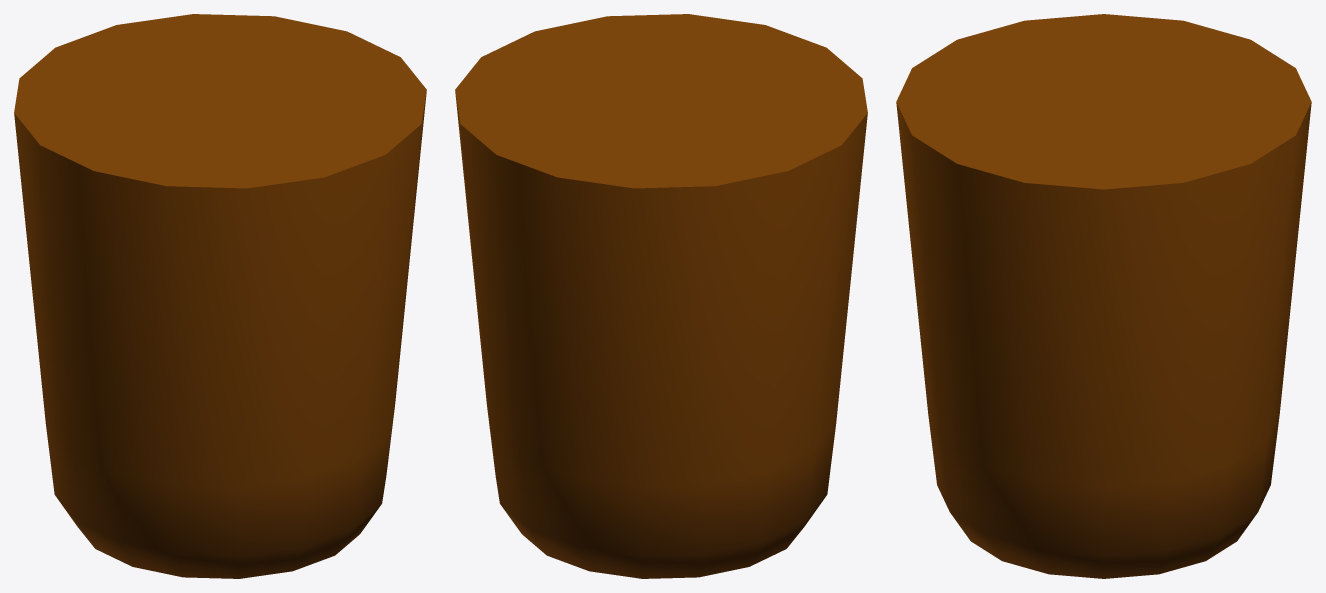
Rendered from Cup-Mug_01_Liquid.fbx.
The picture shows the model from 3 angles, left to right: view 1: azimuth 30°, elevation 25°; view 2: azimuth 150°, elevation 25°; view 3: azimuth 270°, elevation 25°; orthographic projection.
Visible parts, largest first — view 1: Cup-Mug_01_Liquid; view 2: Cup-Mug_01_Liquid; view 3: Cup-Mug_01_Liquid.
Boxes of the visible parts, left/top/right/bottom form: Cup-Mug_01_Liquid: left=14, top=14, right=426, bottom=578; Cup-Mug_01_Liquid: left=455, top=14, right=867, bottom=578; Cup-Mug_01_Liquid: left=896, top=14, right=1311, bottom=578.
Bounding box in the file's own units: 340 × 382 × 340.
